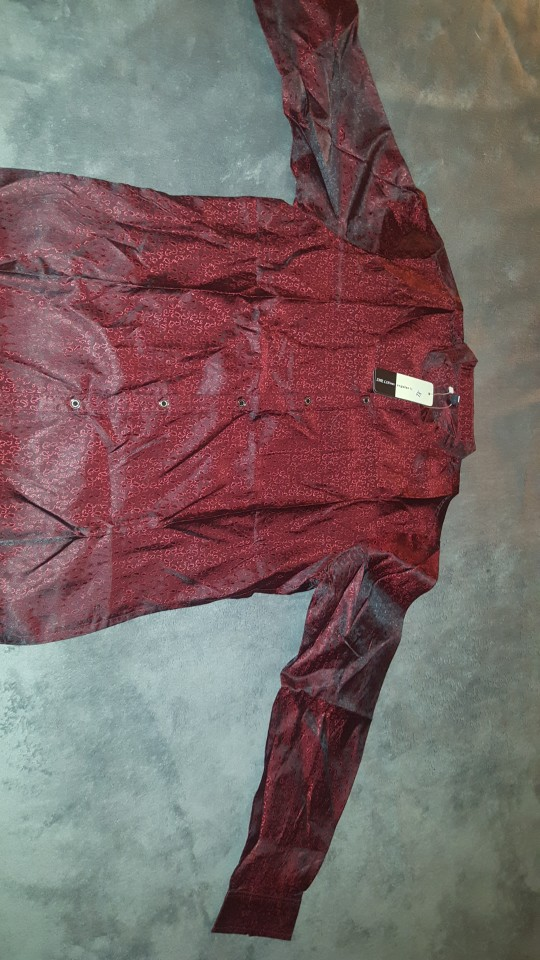shirts: (10, 5, 467, 931)
